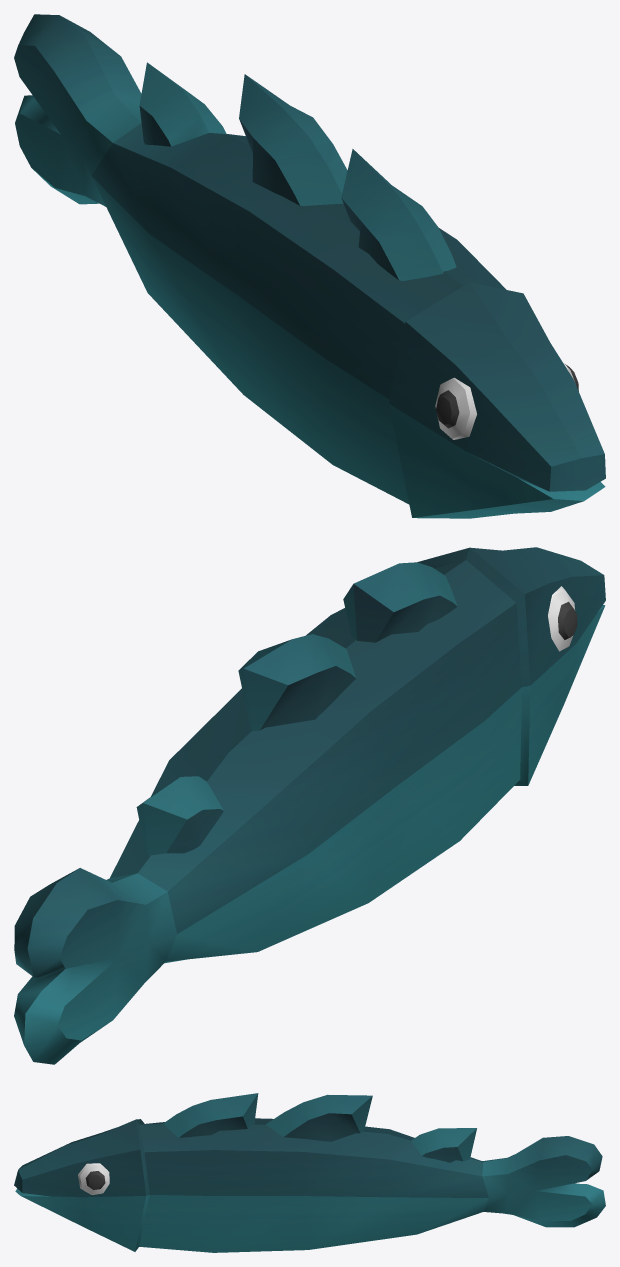
File: Fish_2_D.glb
3 renders of one model, top to bottom at view 1: azimuth 30°, elevation 25°; view 2: azimuth 150°, elevation 25°; view 3: azimuth 270°, elevation 25°, orthographic. The views are drawn at different scales.
Parts seen in each view (by area): view 1: Fish_2_D; view 2: Fish_2_D; view 3: Fish_2_D.
Part boxes in pixels (x1,y1,x2,y2): Fish_2_D: [14, 14, 605, 518]; Fish_2_D: [14, 547, 605, 1064]; Fish_2_D: [14, 1093, 605, 1252].
Size of the model in its own units: 0.1094 by 0.1904 by 0.6612.
1 material, 1 textured.
